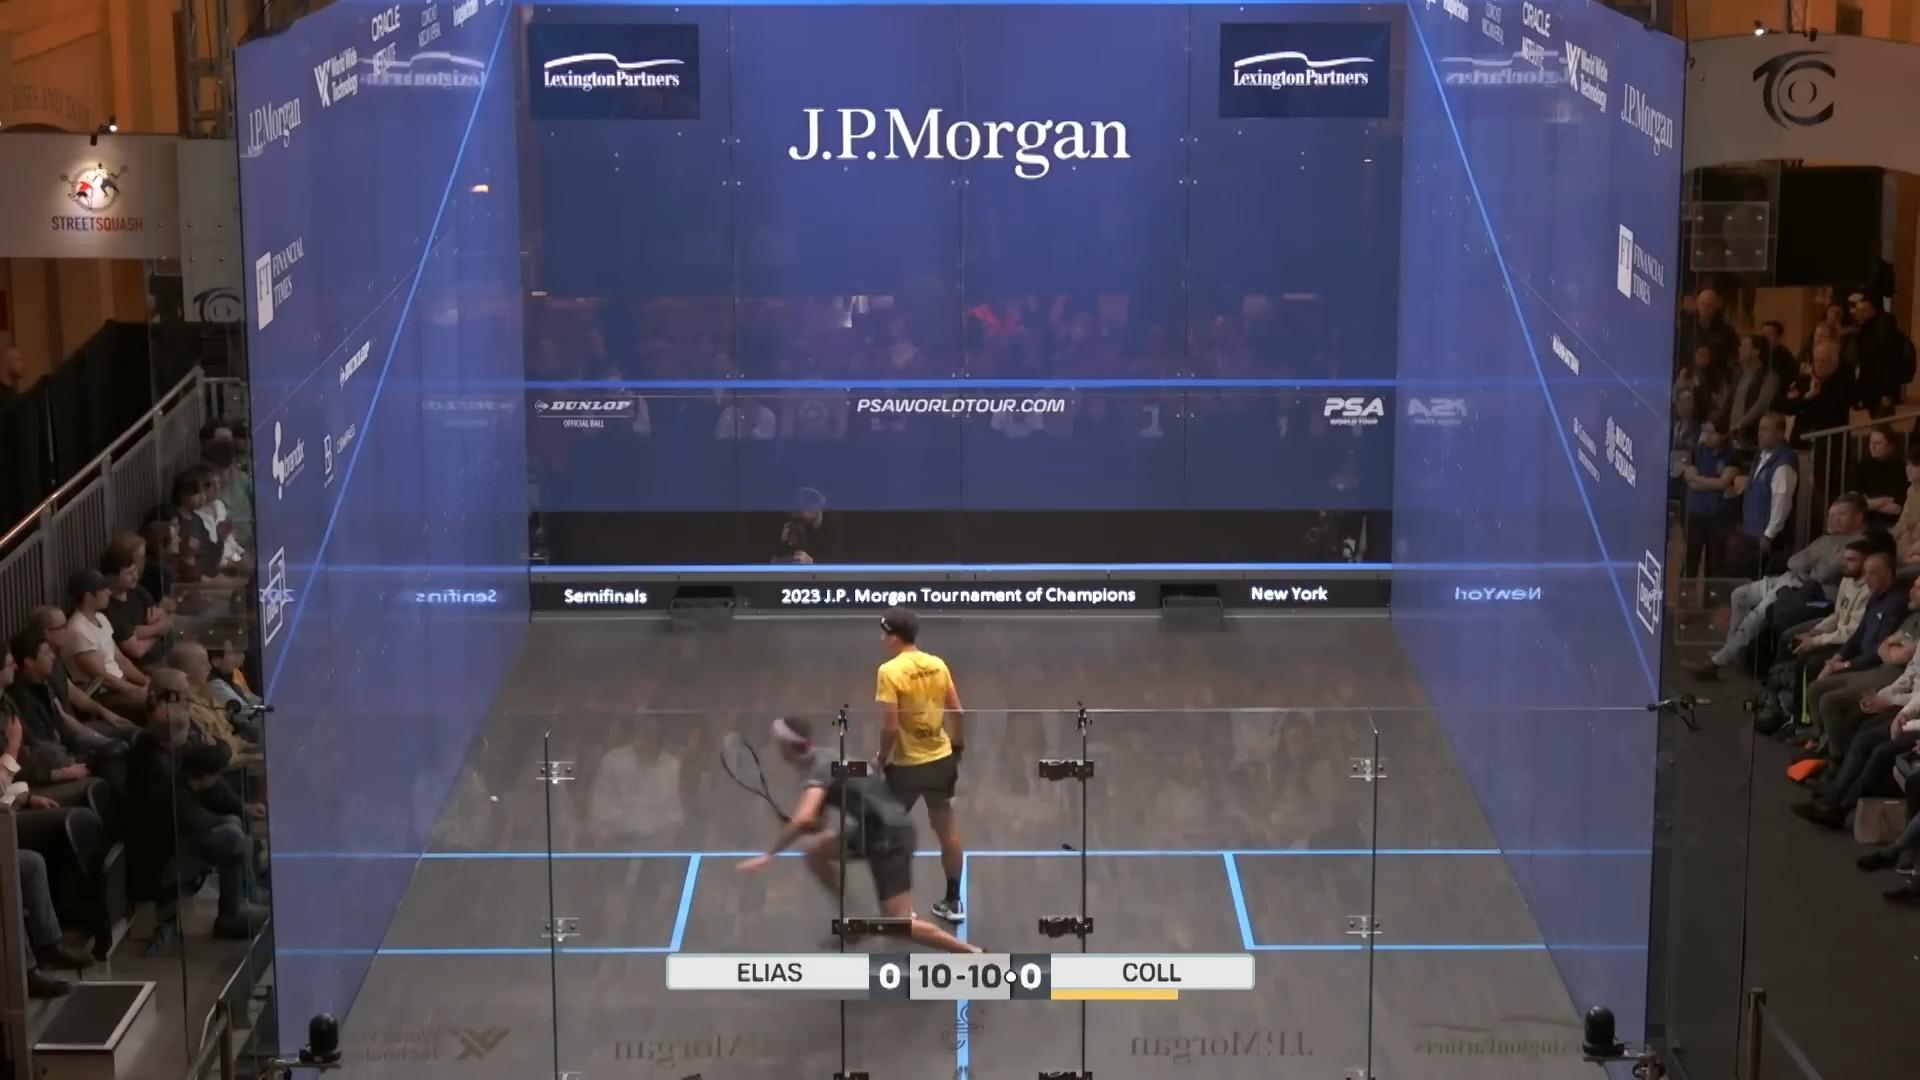Racket: (711, 715, 791, 824)
